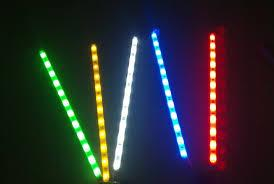Lamp: (36, 45, 102, 184), (146, 28, 193, 161), (111, 32, 143, 174), (90, 36, 119, 184), (204, 31, 228, 170)
